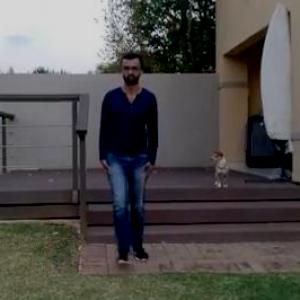follow: (100, 36, 170, 294)
